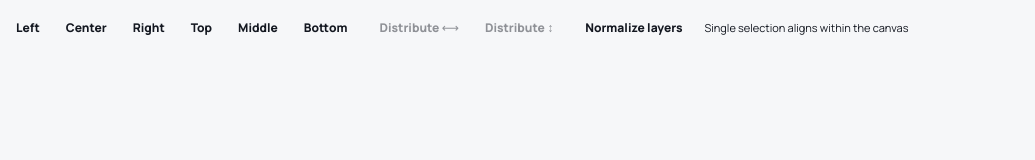
Test case: LayoutToolbar › normalizes duplicate z-indices without changing visual order
Click the button "Normalize layers" at {"x": 634, "y": 27}, box [575, 8, 692, 46]
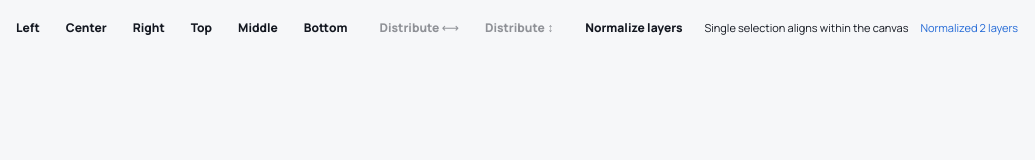
Check: the text "Normalized 2 layers" is shown, box [920, 20, 1018, 34]
